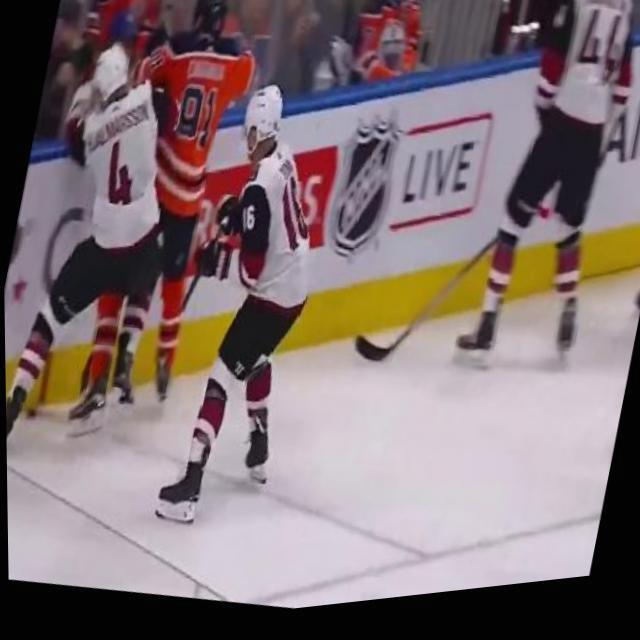fight: (5, 0, 268, 442)
